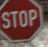Stop sign: (0, 0, 47, 46)
